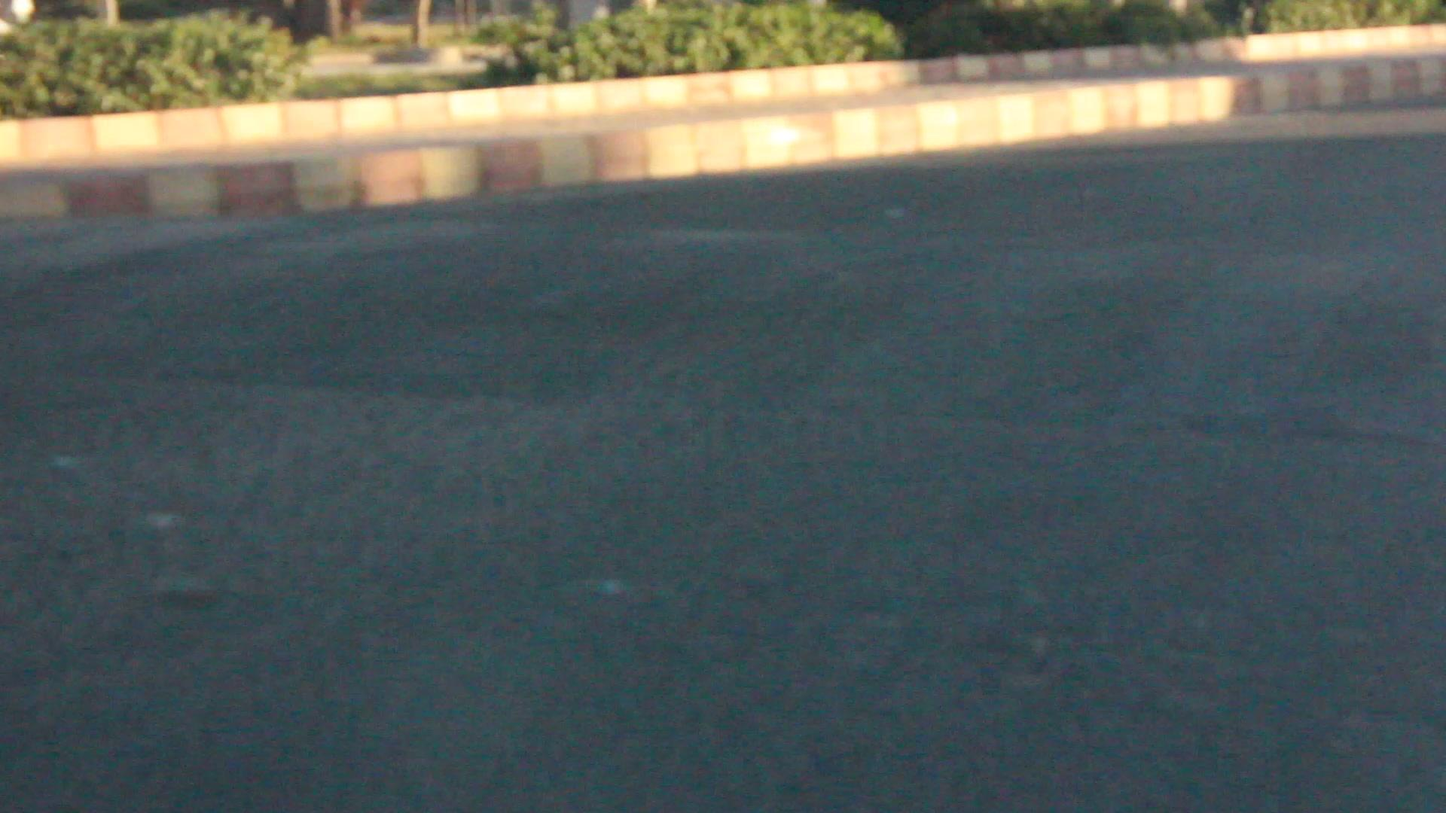Bump: (19, 216, 1446, 391)
